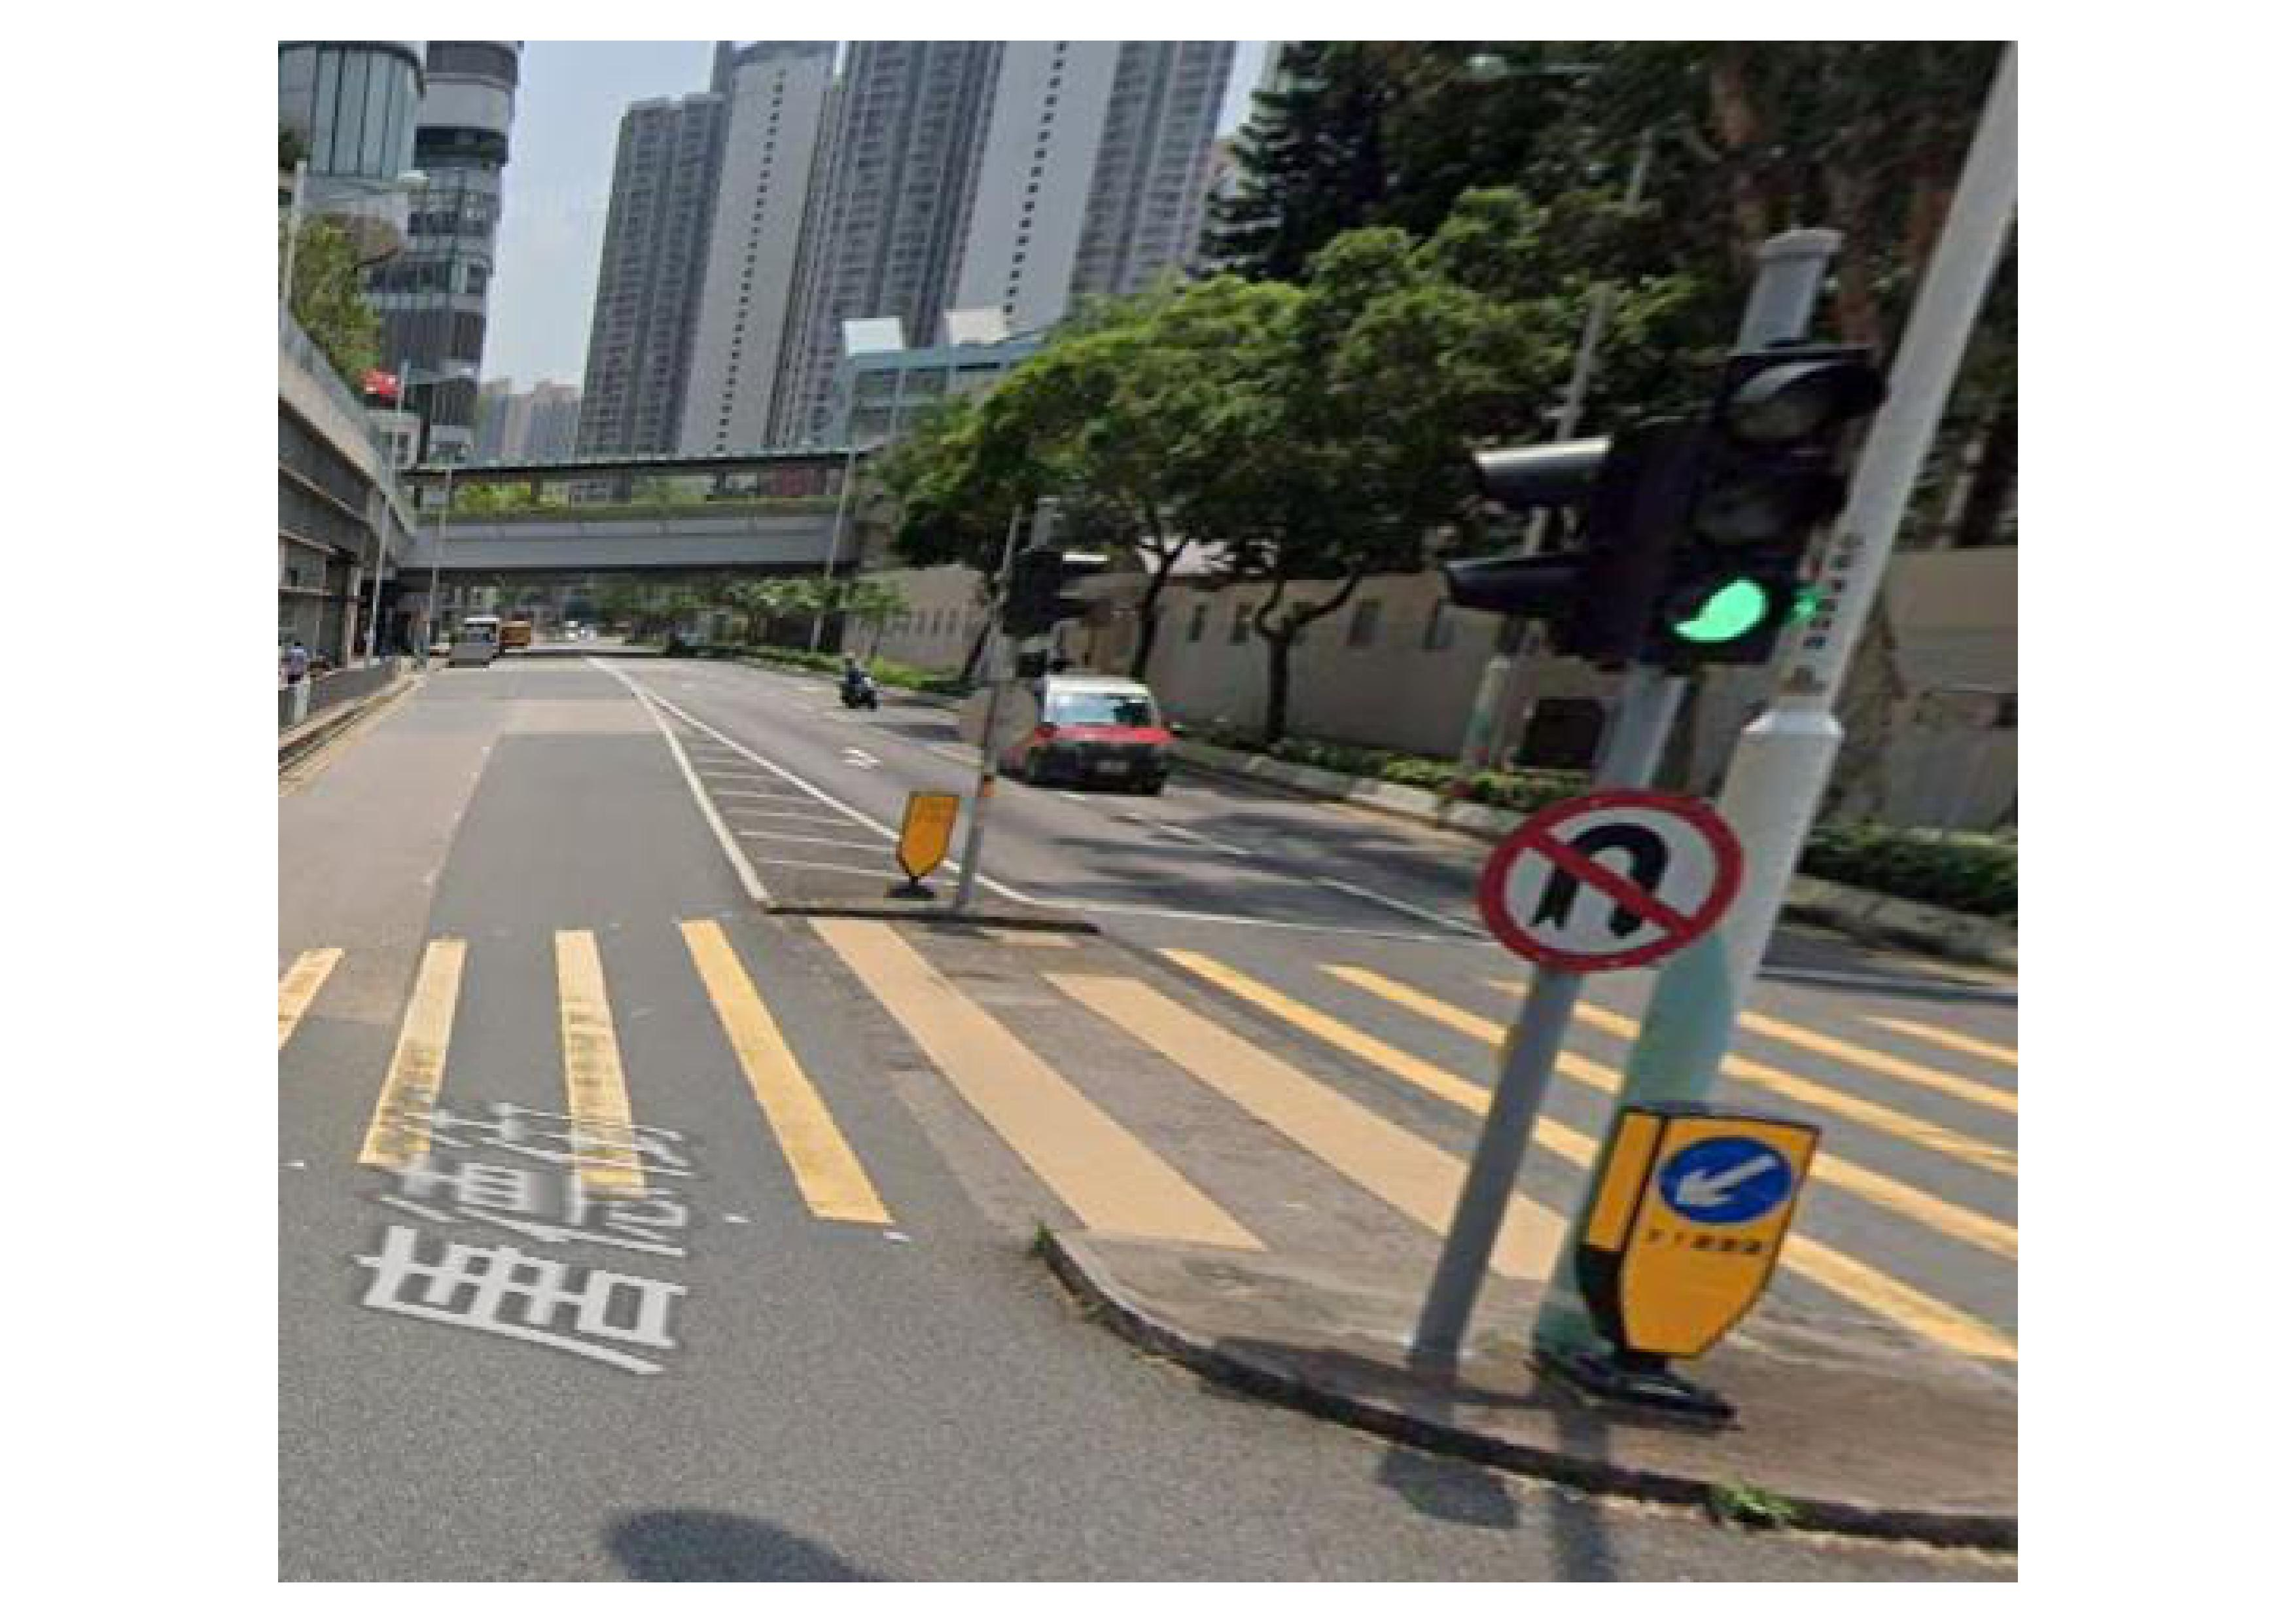No Uturn: (1466, 782, 1762, 994)
